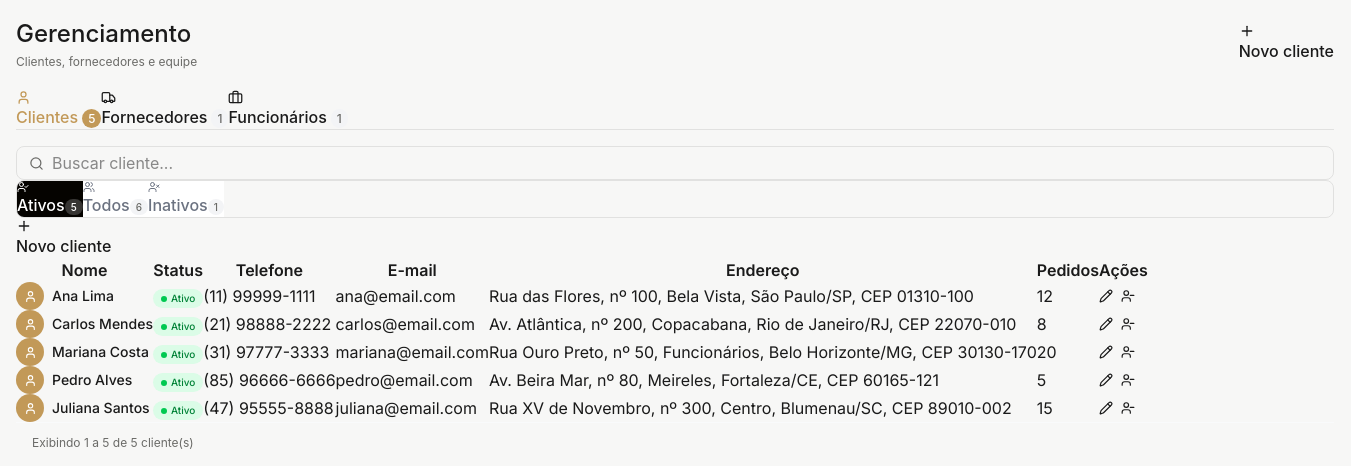
Test case: People: caracterizacao de filtros e permissoes › administrador comum visualiza apenas funcionarios mesmo se a resposta contiver admins
This screenshot has width=1351, height=466.
Expected: the heading "Gerenciamento" is shown, [16, 16, 197, 52]
Expected: the text "Ana Lima" is shown, [52, 286, 114, 306]
Click the button "Funcionários1": [288, 110] box [228, 90, 348, 129]
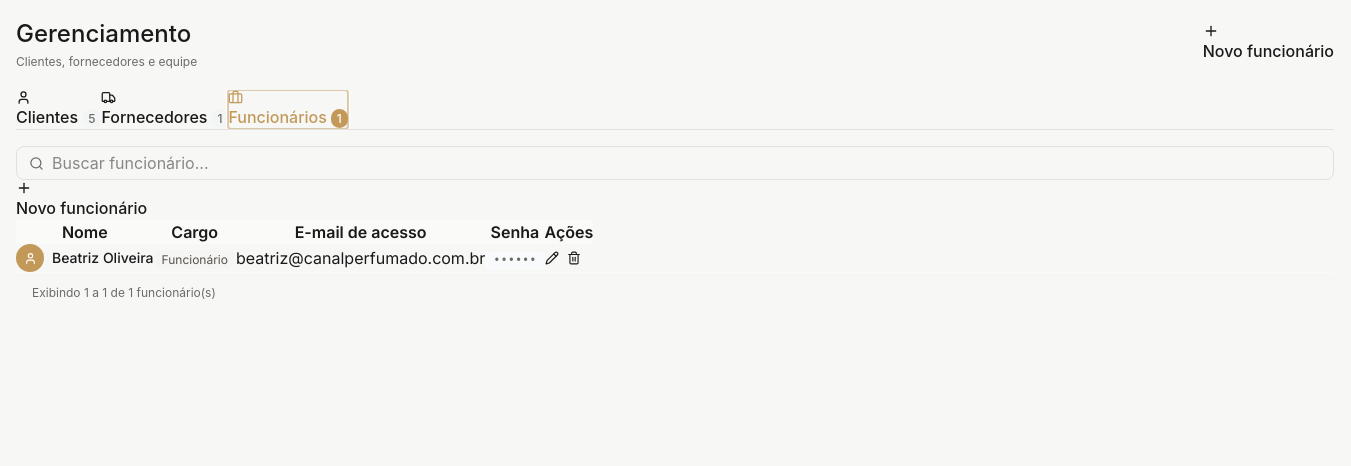
Expected: the text "Beatriz Oliveira" is shown, [52, 248, 154, 268]
